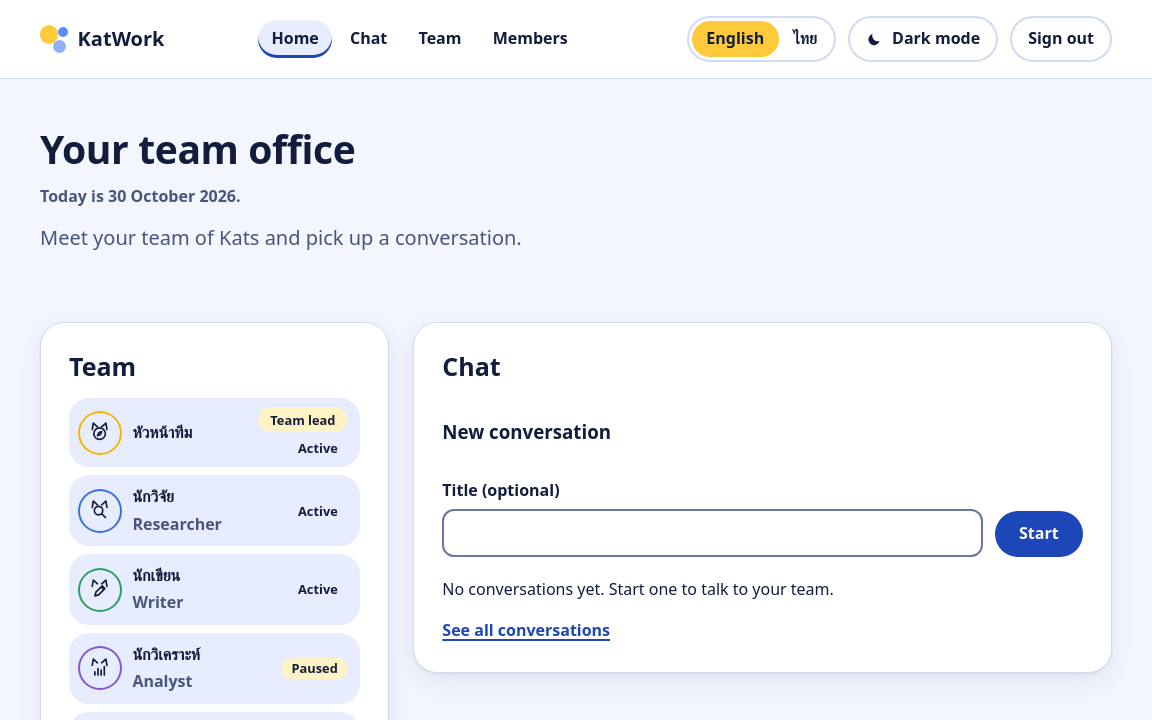
Test case: sign_out_returns_to_login
Click the button "Sign out". click: (1061, 39)
box: x1=1010 y1=16 x2=1112 y2=62
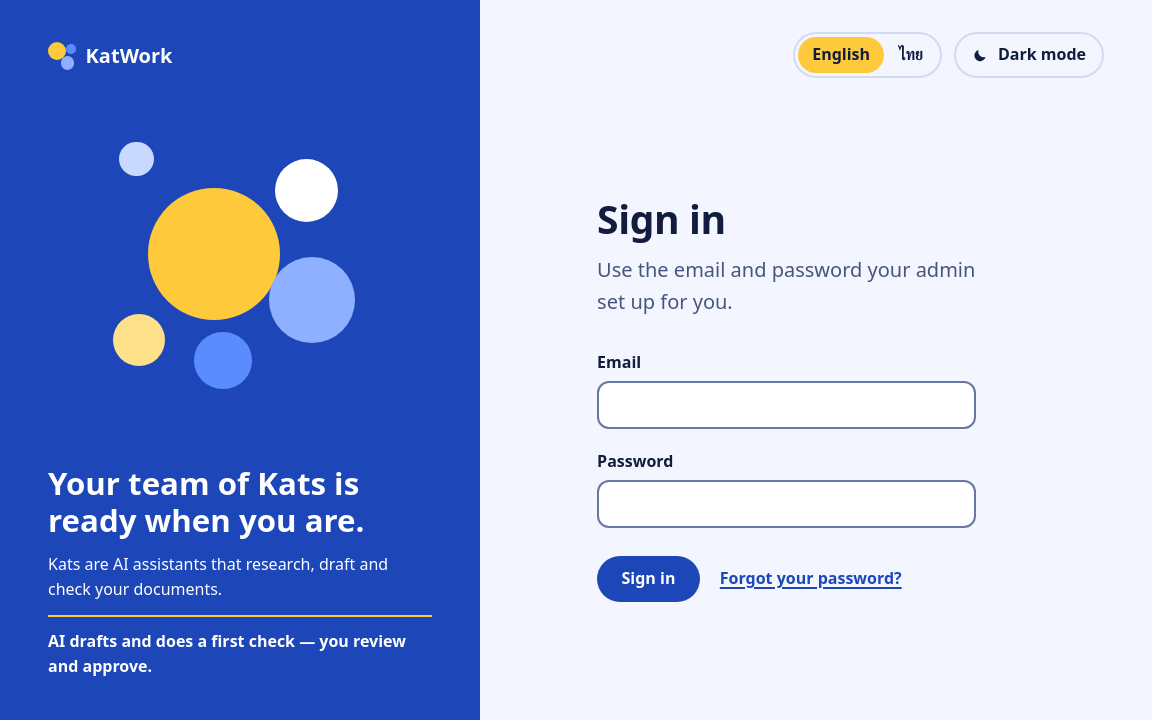
expect the heading "Sign in" is shown: met, box x1=597 y1=192 x2=726 y2=245
